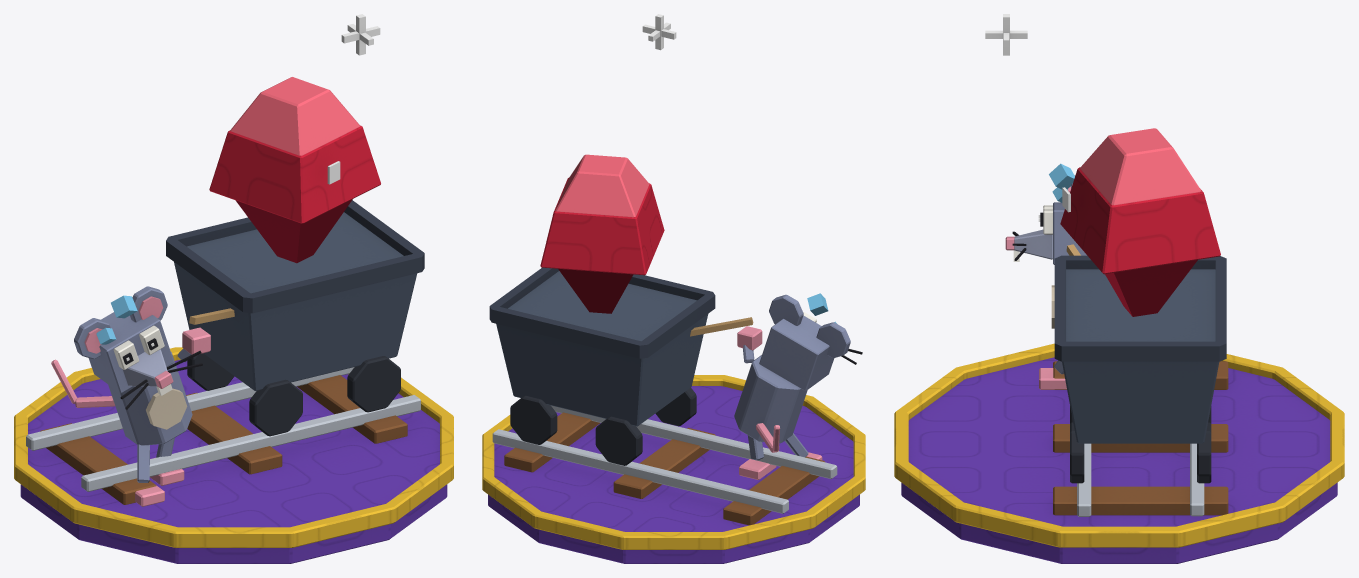
Rendered from RubyThief.fbx.
3 renders of one model, left to right at view 1: azimuth 30°, elevation 25°; view 2: azimuth 150°, elevation 25°; view 3: azimuth 270°, elevation 25°, orthographic. The views are drawn at different scales.
Visible parts, largest first — view 1: Art_RubyThief_Stand, Art_RubyThief_Cart, Art_RubyThief_Ruby, Art_RubyThief_Rat, Art_RubyThief_WheelF, Art_RubyThief_WheelB; view 2: Art_RubyThief_Stand, Art_RubyThief_Cart, Art_RubyThief_Ruby, Art_RubyThief_Rat, Art_RubyThief_WheelF, Art_RubyThief_WheelB; view 3: Art_RubyThief_Stand, Art_RubyThief_Cart, Art_RubyThief_Ruby, Art_RubyThief_Rat, Art_RubyThief_WheelB.
Boxes of the visible parts, x1,y1,x2,y2 form: Art_RubyThief_Stand: (14, 14, 453, 563); Art_RubyThief_Cart: (166, 200, 424, 390); Art_RubyThief_Ruby: (209, 77, 380, 263); Art_RubyThief_Rat: (51, 286, 210, 506); Art_RubyThief_WheelF: (187, 353, 302, 436); Art_RubyThief_WheelB: (347, 356, 400, 412); Art_RubyThief_Stand: (482, 14, 865, 563); Art_RubyThief_Cart: (489, 267, 753, 426); Art_RubyThief_Ruby: (540, 154, 664, 313); Art_RubyThief_Rat: (734, 293, 862, 479); Art_RubyThief_WheelF: (595, 387, 696, 465); Art_RubyThief_WheelB: (510, 395, 557, 444); Art_RubyThief_Stand: (894, 14, 1344, 563); Art_RubyThief_Cart: (1054, 244, 1226, 443); Art_RubyThief_Ruby: (1060, 128, 1220, 316); Art_RubyThief_Rat: (1005, 163, 1086, 389); Art_RubyThief_WheelB: (1070, 422, 1211, 483).
Size of the model in its own units: 3.19 by 3.85 by 3.19.
